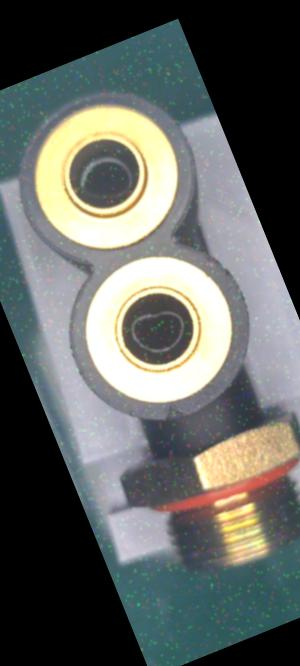bump: (153, 393, 196, 432)
off-centered: (63, 140, 142, 220), (120, 295, 194, 366)
